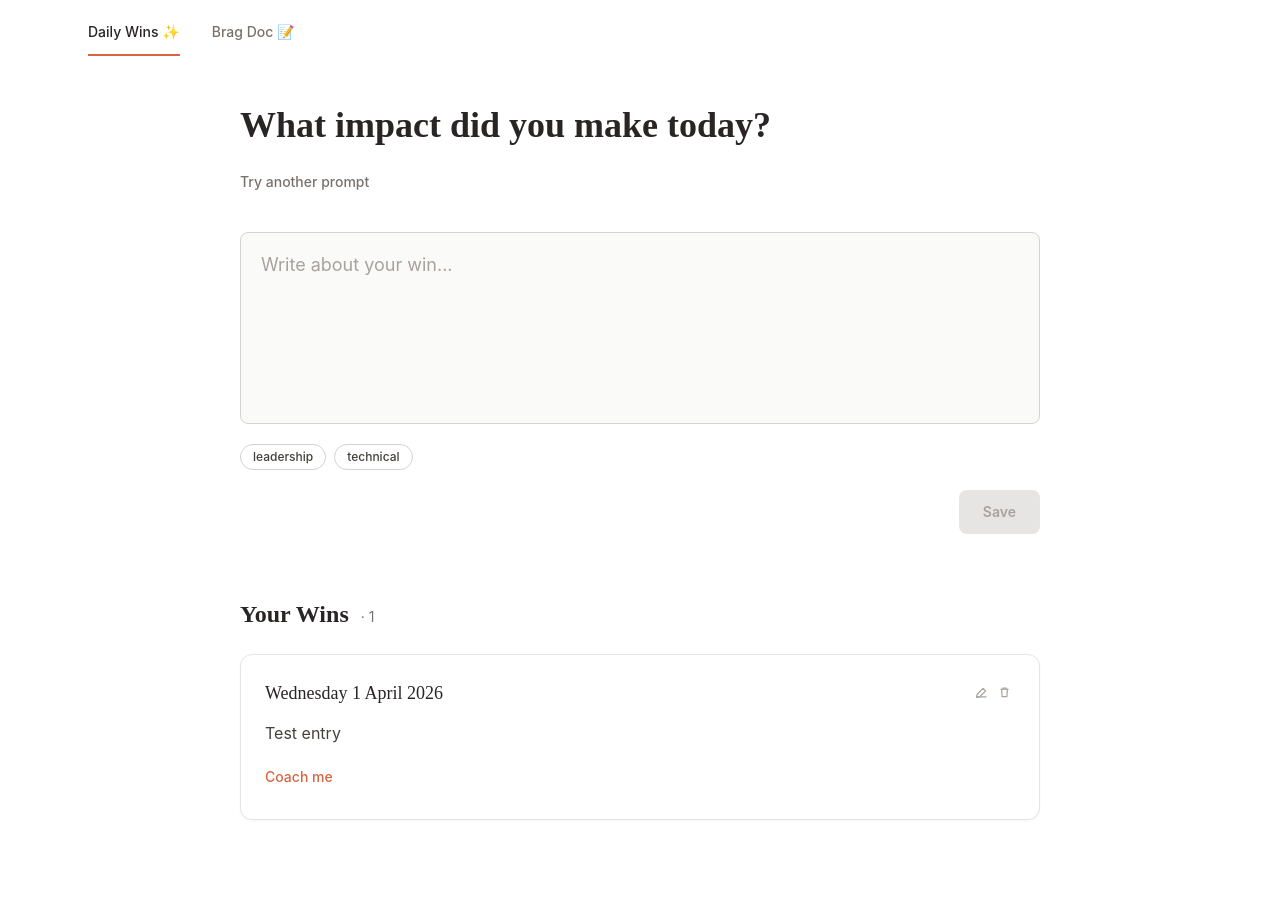
Scenario: App › shows the consent gate when Coach me is clicked without prior consent
(page scrolled)
Click the button "Coach me" at point(299, 776), box [253,758,345,794]
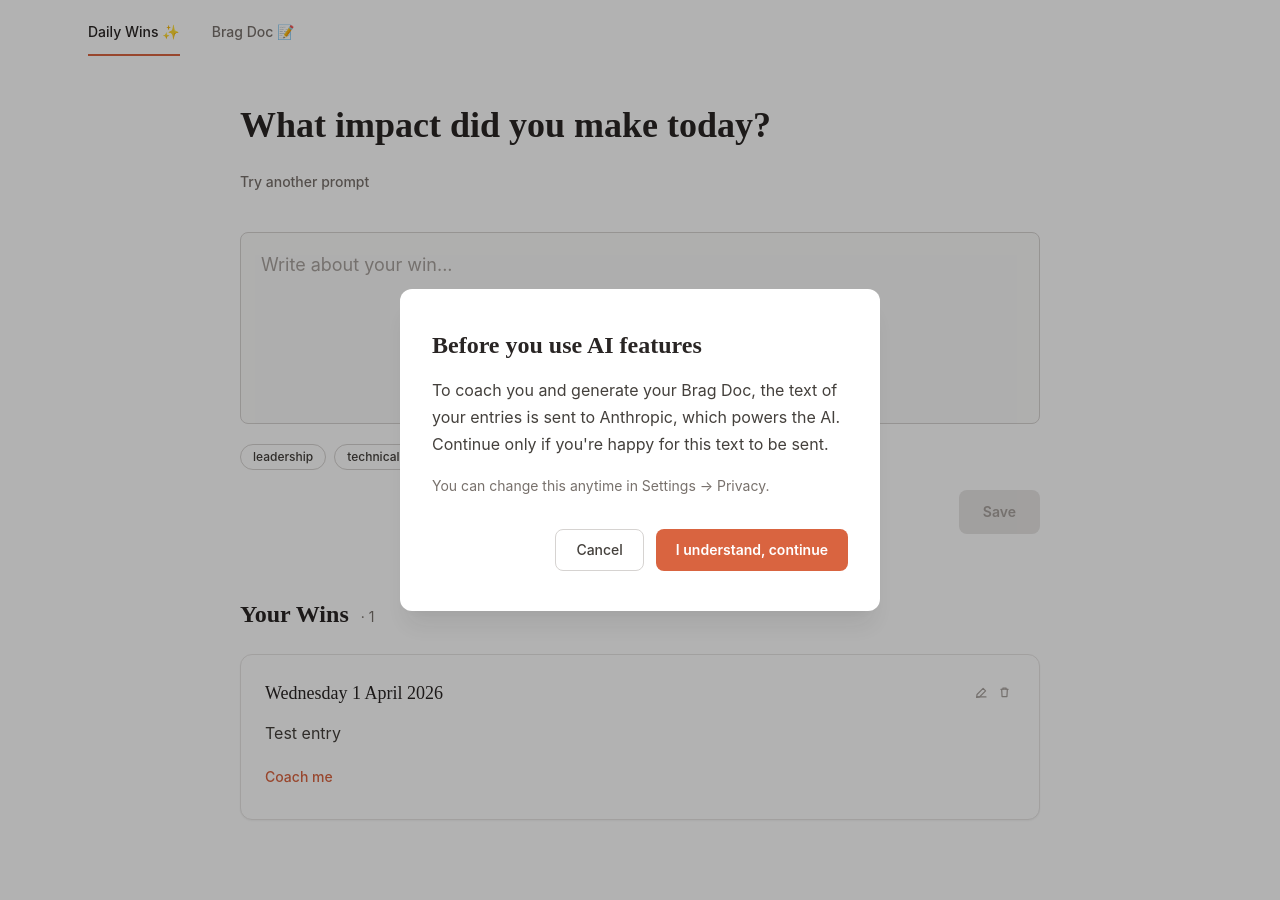
Now the button "I understand, continue" is shown, box [656,529,848,571]
